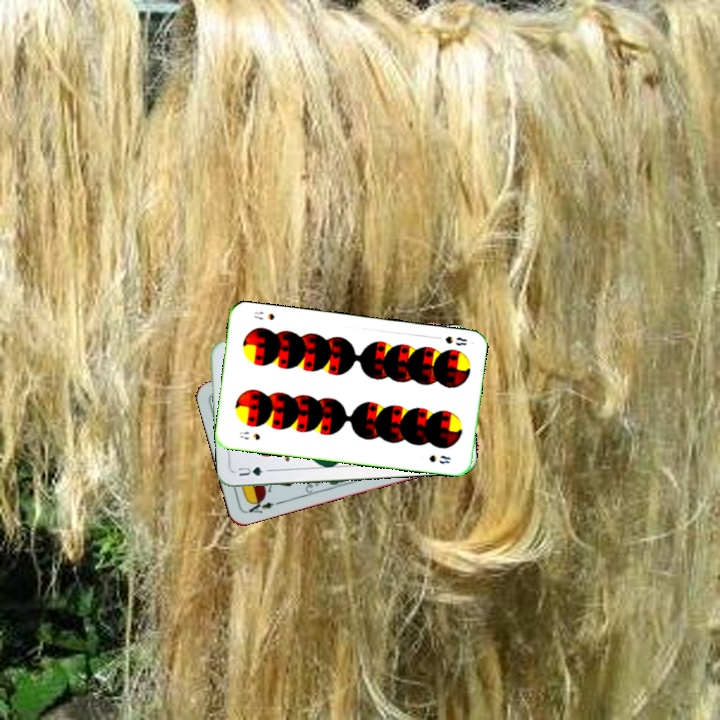EA: (243, 495, 282, 516)
GU: (234, 462, 266, 479)
S8: (441, 332, 469, 348), (236, 427, 262, 443)
